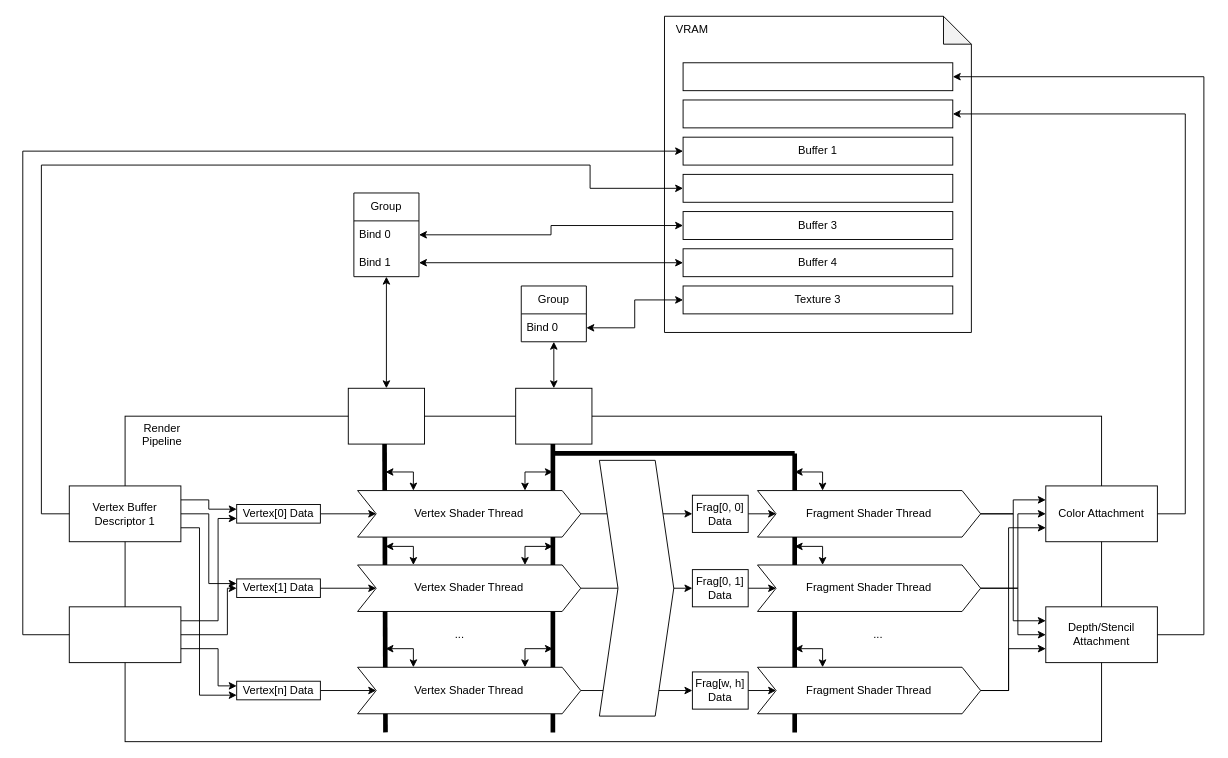
The diagram is 1228 pixels wide and 758 high, and some of its shapes have lost their labels. Here are the shapes that lost their labels. From the top down, the centre of each, then its label:
pixel 817 76: Texture 1
pixel 817 113: Texture 2
pixel 817 187: Buffer 2
pixel 386 415: Bind Group Layout 0
pixel 553 415: Bind Group Layout 1
pixel 636 587: Rasterizer
pixel 124 634: Vertex Buffer Descriptor 2
